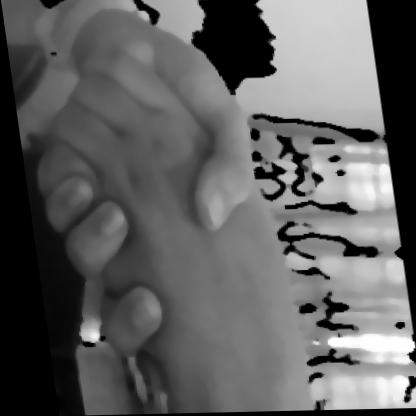handshake: (4, 10, 312, 401)
